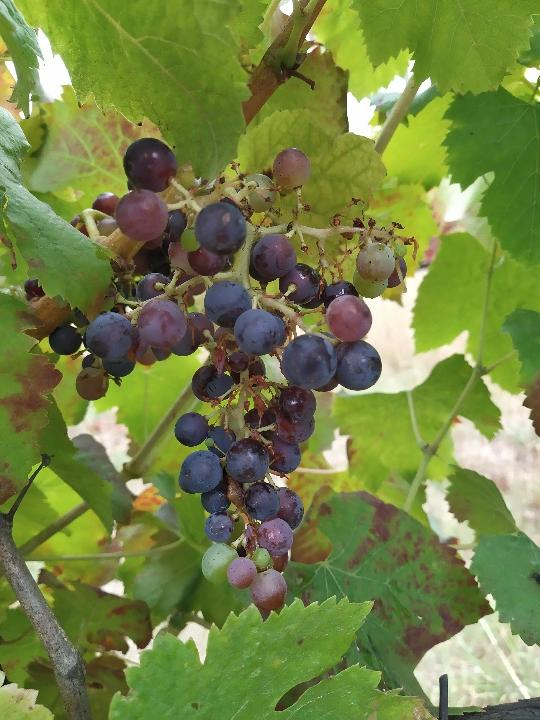grape: (18, 136, 420, 611)
